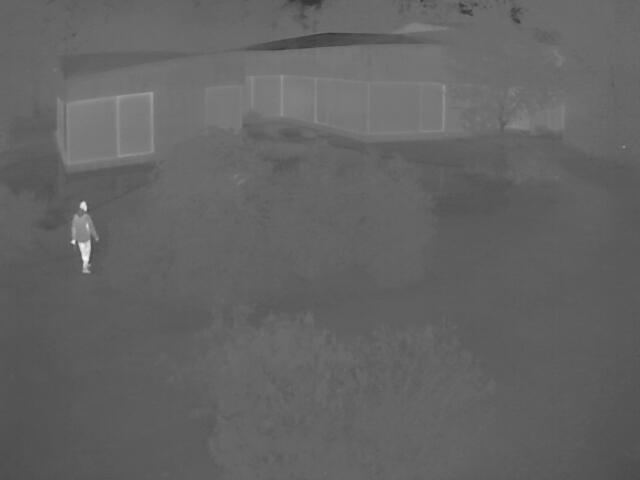person: (69, 199, 97, 275)
